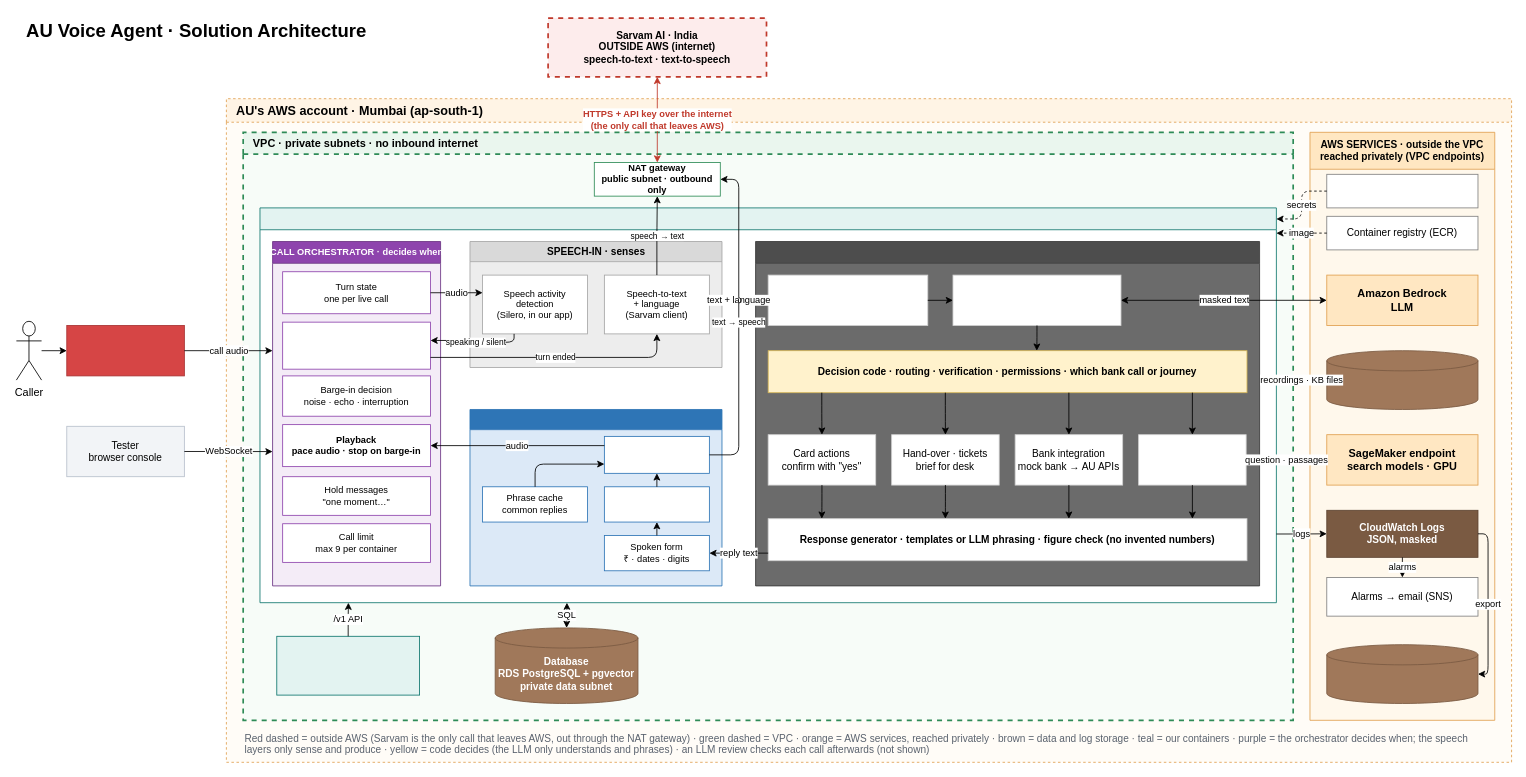
Image size: 1526x777. Some labels were removed from this diagram. The box of each missing label's shape, as (x1, y1, x2, y2) in pixels:
AU Cisco contact centre (later): (66, 325, 184, 376)
BOT APPLICATION: (755, 241, 1260, 586)
Call storage · S3 recordings (encrypted) + KB files: (1326, 350, 1478, 410)
End-of-turn decision silence + "sounds unfinished?": (282, 321, 430, 369)
Guardrails PII masking · scope · safety: (767, 274, 928, 326)
Knowledge base (RAG) search: (1138, 434, 1246, 485)
Log archive · S3: (1326, 644, 1478, 704)
Pronunciation names · terms: (604, 486, 709, 522)
Secrets Manager: (1326, 173, 1478, 208)
SPEECH-OUT · produces: (469, 409, 722, 586)
Staff console au-ui (ECS on EC2, t3.small) calls · KB · desk · fixes: (276, 635, 420, 695)
Text-to-speech (Sarvam client): (604, 436, 709, 473)
Understanding words → JSON (LLM): (952, 274, 1121, 326)
Voice agent app · au-brain container (ECS on EC2) · private app subnet: (259, 207, 1276, 603)
